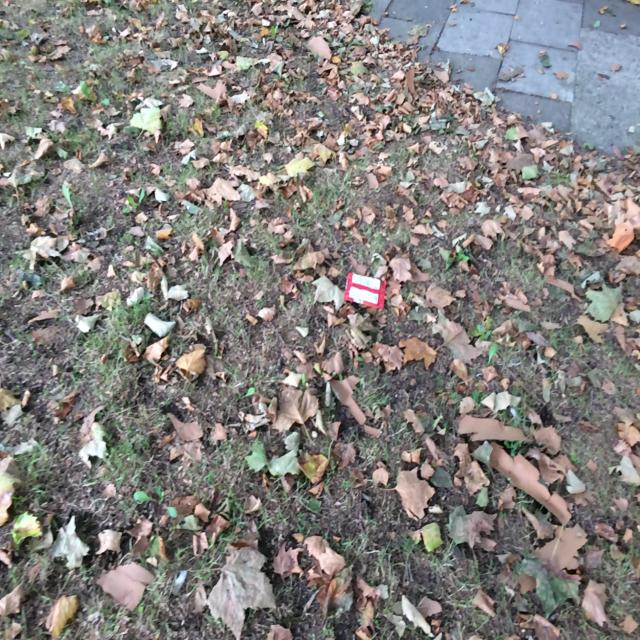Other plastic: (344, 272, 386, 310)
